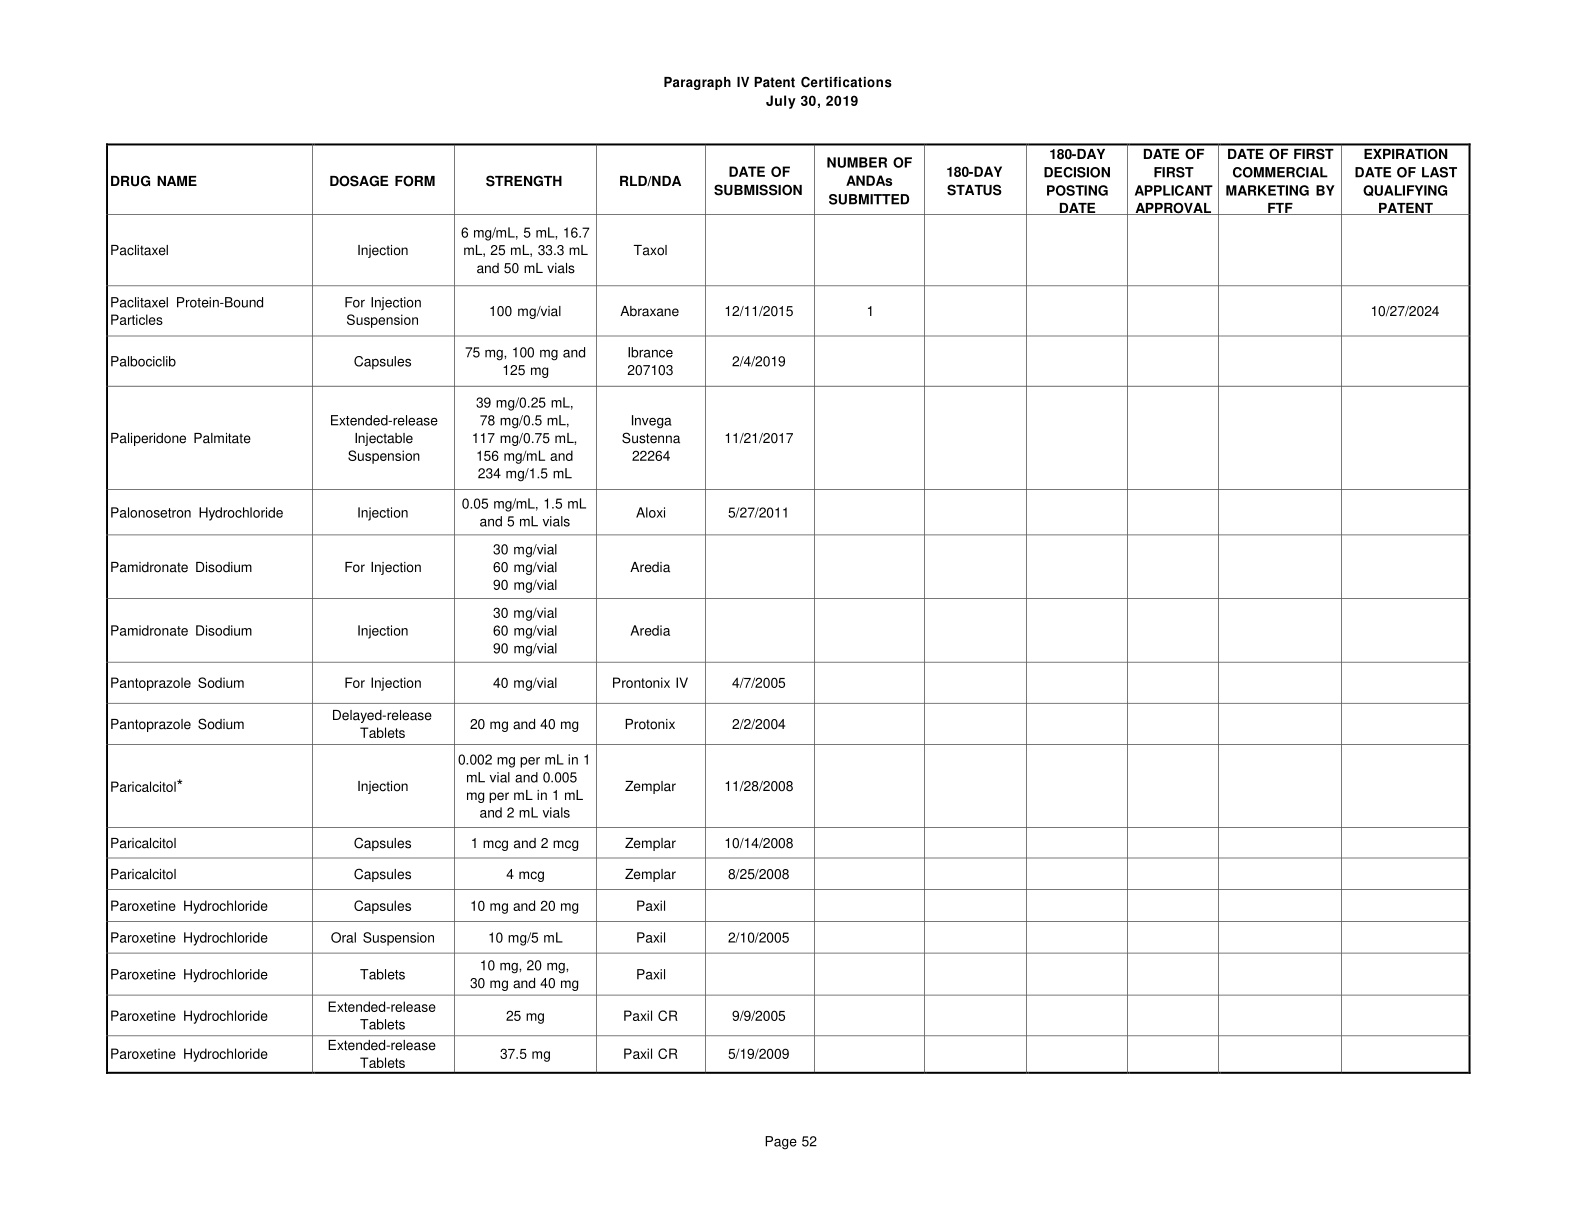full_lined: (105, 141, 1471, 1075)
